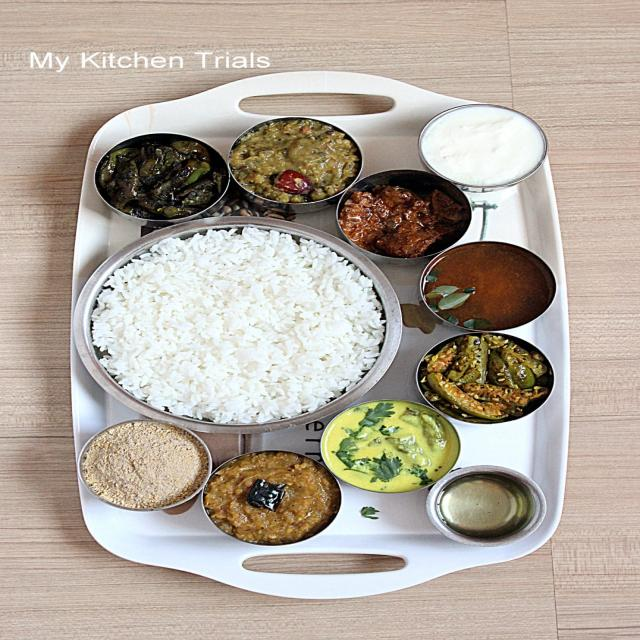veg meals: (60, 100, 579, 570)
